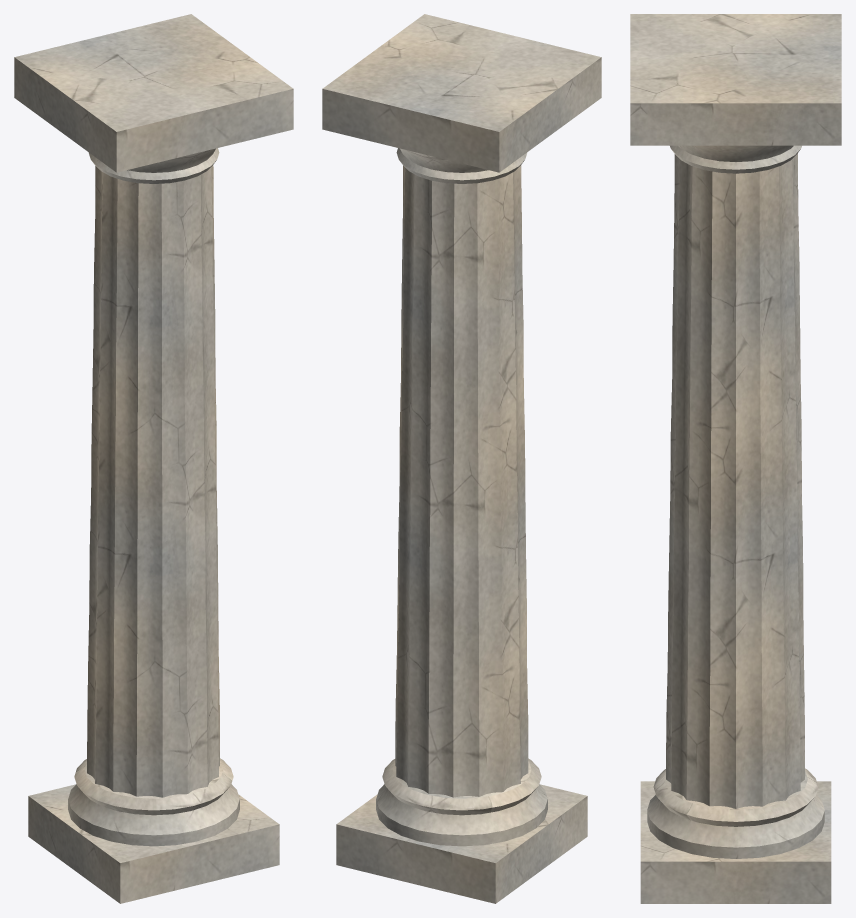
Rendered from column.glb.
3 views of the same model, side by side, from view 1: azimuth 30°, elevation 25°; view 2: azimuth 150°, elevation 25°; view 3: azimuth 270°, elevation 25° (orthographic). The views are drawn at different scales.
Visible parts, largest first — view 1: OUT; view 2: OUT; view 3: OUT.
Boxes of the visible parts, x1=… form: OUT: x1=14, y1=14, x2=293, y2=903; OUT: x1=322, y1=14, x2=601, y2=903; OUT: x1=630, y1=14, x2=841, y2=903.
Bounding box in the file's own units: 1 × 4.2 × 1.
1 material, 1 textured.
